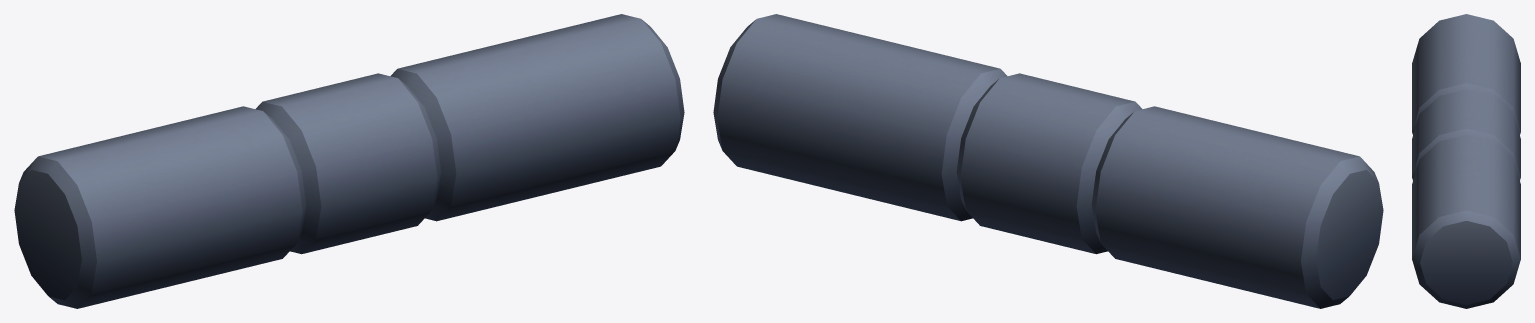
The model's file is Barrel4.FBX.
3 renders of one model, left to right at view 1: azimuth 30°, elevation 25°; view 2: azimuth 150°, elevation 25°; view 3: azimuth 270°, elevation 25°, orthographic. The views are drawn at different scales.
Visible parts, largest first — view 1: Cylinder007; view 2: Cylinder007; view 3: Cylinder007.
Part boxes in pixels (left/top/right/bottom): Cylinder007: left=14, top=14, right=684, bottom=308; Cylinder007: left=713, top=14, right=1383, bottom=308; Cylinder007: left=1412, top=14, right=1520, bottom=308.
Size of the model in its own units: 13.15 by 2.98 by 2.98.
